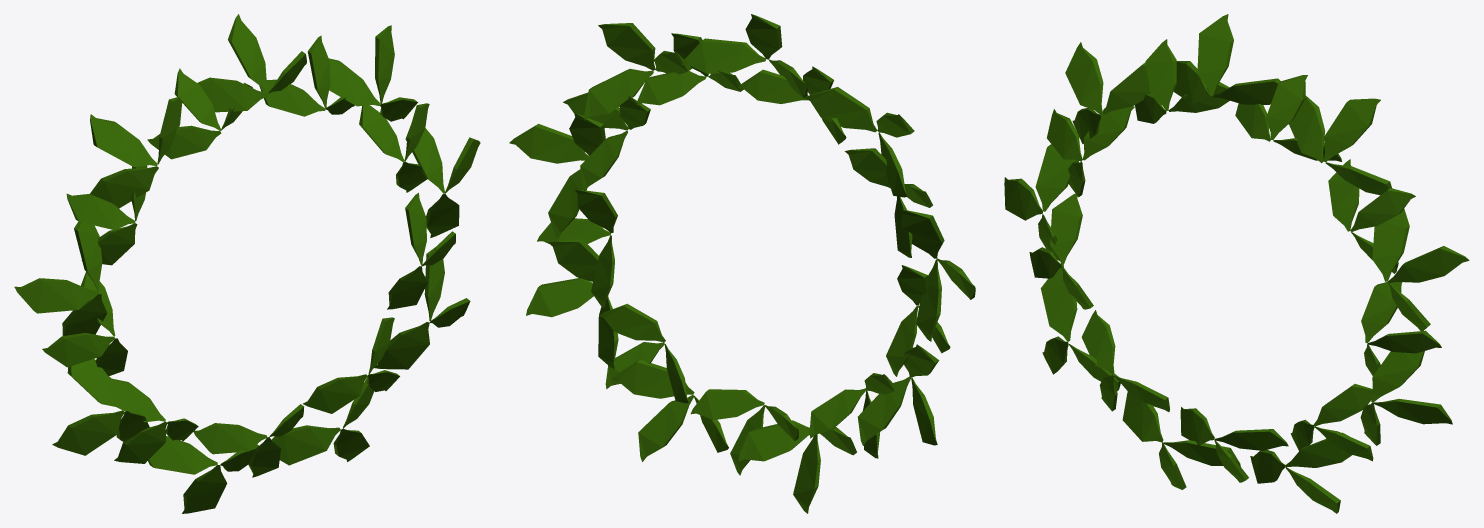
Rendered from Prop_Christmas_Ornament_Wreath_01.FBX.
3 views of the same model, side by side, from view 1: azimuth 30°, elevation 25°; view 2: azimuth 150°, elevation 25°; view 3: azimuth 330°, elevation 25° (orthographic).
Parts seen in each view (by area): view 1: Prop_Christmas_Ornament_Wreath_01; view 2: Prop_Christmas_Ornament_Wreath_01; view 3: Prop_Christmas_Ornament_Wreath_01.
Part boxes in pixels (x1,y1,x2,y2): Prop_Christmas_Ornament_Wreath_01: (14,14,480,513); Prop_Christmas_Ornament_Wreath_01: (509,14,975,513); Prop_Christmas_Ornament_Wreath_01: (1004,14,1469,513).
Bounding box in the file's own units: 835 × 833 × 76.52.
